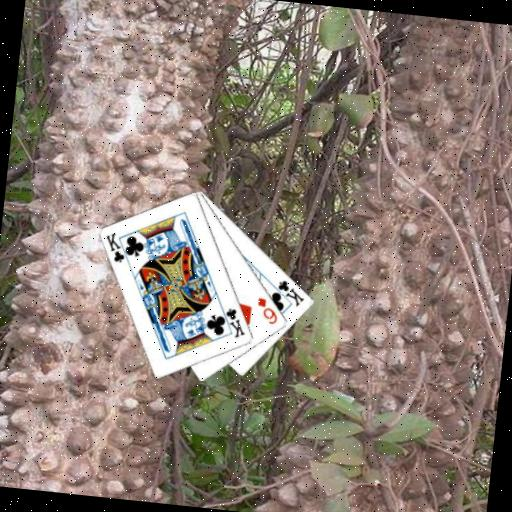6D: (253, 294, 281, 327)
KC: (268, 276, 308, 309), (216, 304, 250, 341), (100, 229, 134, 265)
